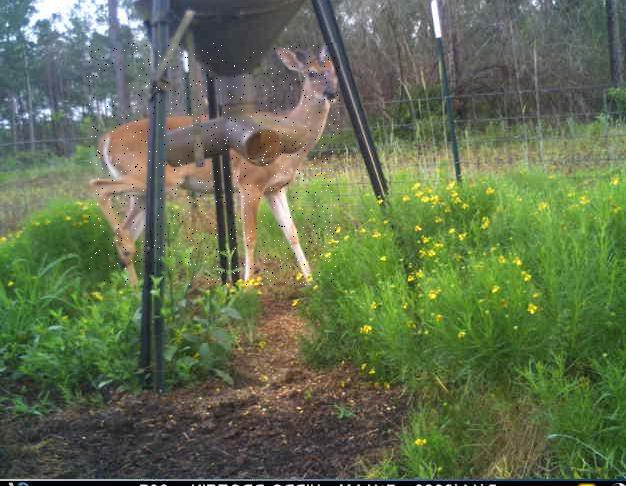Deer: (86, 43, 339, 285)
